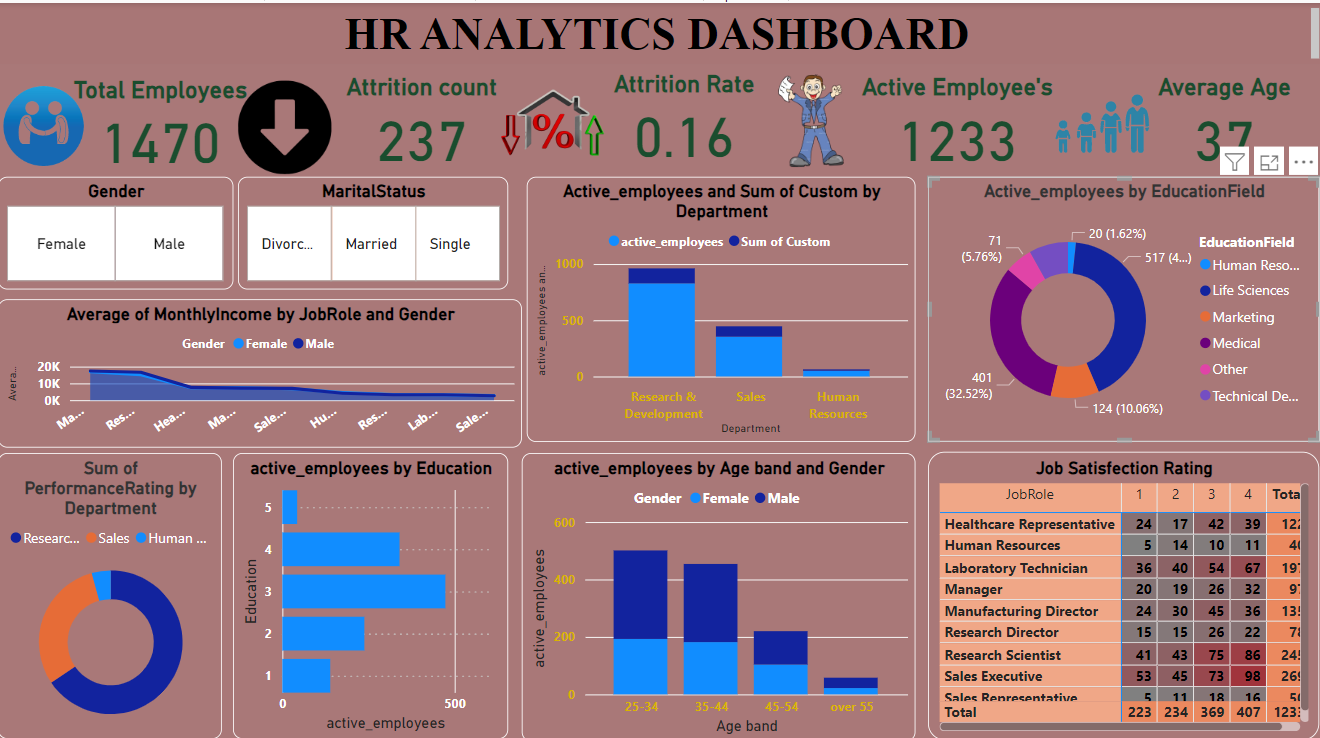

Layout of this report page (visuals, bound fields, positions):
{"tool":"powerbi","page":{"name":"Page 1","canvas":[1280,720],"ordinal":0},"visuals":[{"type":"card","title":"Total Employees","fields":{"Values":["Sum(HR-Employee-Attrition.EmployeeCount)"]},"box":[59.1,70.2,195.4,91.7],"z":0},{"type":"card","title":"Attrition count","fields":{"Values":["Sum(HR-Employee-Attrition.Custom)"]},"box":[312.5,67.8,193,91.7],"z":1000},{"type":"card","title":"Attrition Rate","fields":{"Values":["HR-Employee-Attrition.attrition_rate"]},"box":[565.8,64.2,193,91.7],"z":2000},{"type":"card","title":"Average Age","fields":{"Values":["Avg(HR-Employee-Attrition.Age)"]},"box":[1086.8,67.9,193.5,91.9],"z":3000},{"type":"card","title":"Active Employee''s","fields":{"Values":["HR-Employee-Attrition.active_employees"]},"box":[818,67.8,216,91.7],"z":4000},{"type":"columnChart","title":"Active_employees and Sum of Custom by Department","fields":{"Category":["HR-Employee-Attrition.Department"],"Y":["HR-Employee-Attrition.active_employees","Sum(HR-Employee-Attrition.Custom)"]},"box":[510.3,167.7,375.2,255.8],"z":5000},{"type":"donutChart","title":"Active_employees by EducationField","fields":{"Y":["HR-Employee-Attrition.active_employees"],"Series":["HR-Employee-Attrition.EducationField"]},"box":[897.6,167.7,377.6,255.8],"z":6000},{"type":"columnChart","fields":{"Y":["HR-Employee-Attrition.active_employees"],"Category":["HR-Employee-Attrition.Age band"],"Series":["HR-Employee-Attrition.Gender"]},"box":[505.5,434.3,380,278.7],"z":7000},{"type":"pivotTable","title":"Job Satisfection Rating","fields":{"Rows":["HR-Employee-Attrition.JobRole"],"Columns":["HR-Employee-Attrition.JobSatisfaction"],"Values":["HR-Employee-Attrition.active_employees"]},"box":[897.6,433.1,377.6,278.7],"z":8000},{"type":"actionButton","box":[0,0,100,40],"z":9000},{"type":"donutChart","fields":{"Y":["Sum(HR-Employee-Attrition.PerformanceRating)"],"Category":["HR-Employee-Attrition.Department"]},"box":[0,434.3,216,276.3],"z":10000},{"type":"clusteredBarChart","fields":{"Category":["HR-Employee-Attrition.Education"],"Y":["HR-Employee-Attrition.active_employees"]},"box":[226.8,434.3,265.4,276.3],"z":11000},{"type":"areaChart","fields":{"Category":["HR-Employee-Attrition.JobRole"],"Y":["Avg(HR-Employee-Attrition.MonthlyIncome)"],"Series":["HR-Employee-Attrition.Gender"]},"box":[0,285.9,505.5,143.6],"z":12000},{"type":"advancedSlicerVisual","fields":{"Values":["HR-Employee-Attrition.Gender"]},"box":[0,167.7,226.8,108.6],"z":13000},{"type":"advancedSlicerVisual","fields":{"Values":["HR-Employee-Attrition.MaritalStatus"]},"box":[231.6,167.7,260.6,108.6],"z":14000},{"type":"image","box":[1015.8,70.2,100.1,100.1],"z":15000},{"type":"image","box":[731.1,59.4,107.4,108.6],"z":16000},{"type":"image","box":[476.5,55.7,117,117],"z":17000},{"type":"image","box":[226.8,70,100.1,100.1],"z":18000},{"type":"image","box":[0,70.2,88.1,97.7],"z":19000},{"type":"textbox","box":[0,0,1280,59.1],"z":20000}]}

Visuals, with their boxes in screenshot pixels (x1, y1, x2, y2), scaled from the page's 1280x720 canvas onto the 1320x738 screenshot:
"Total Employees" card: bbox=(61, 72, 262, 166)
"Attrition count" card: bbox=(322, 69, 521, 163)
"Attrition Rate" card: bbox=(583, 66, 783, 160)
"Average Age" card: bbox=(1121, 70, 1319, 164)
"Active Employee''s" card: bbox=(844, 69, 1066, 163)
"Active_employees and Sum of Custom by Department" columnChart: bbox=(526, 172, 913, 434)
"Active_employees by EducationField" donutChart: bbox=(926, 172, 1315, 434)
columnChart - HR-Employee-Attrition.active_employees x HR-Employee-Attrition.Age band: bbox=(521, 445, 913, 731)
"Job Satisfection Rating" pivotTable: bbox=(926, 444, 1315, 730)
actionButton: bbox=(0, 0, 103, 41)
donutChart - Sum(HR-Employee-Attrition.PerformanceRating) x HR-Employee-Attrition.Department: bbox=(0, 445, 223, 728)
clusteredBarChart - HR-Employee-Attrition.Education x HR-Employee-Attrition.active_employees: bbox=(234, 445, 508, 728)
areaChart - HR-Employee-Attrition.JobRole x Avg(HR-Employee-Attrition.MonthlyIncome): bbox=(0, 293, 521, 440)
advancedSlicerVisual - HR-Employee-Attrition.Gender: bbox=(0, 172, 234, 283)
advancedSlicerVisual - HR-Employee-Attrition.MaritalStatus: bbox=(239, 172, 508, 283)
image: bbox=(1048, 72, 1151, 175)
image: bbox=(754, 61, 865, 172)
image: bbox=(491, 57, 612, 177)
image: bbox=(234, 72, 337, 174)
image: bbox=(0, 72, 91, 172)
textbox: bbox=(0, 0, 1319, 61)
